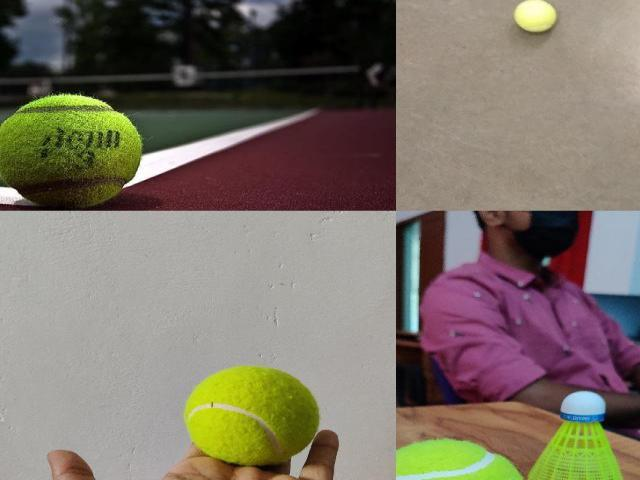tennis-ball: (0, 93, 143, 208), (182, 365, 320, 467), (396, 437, 528, 479), (513, 0, 557, 32)
